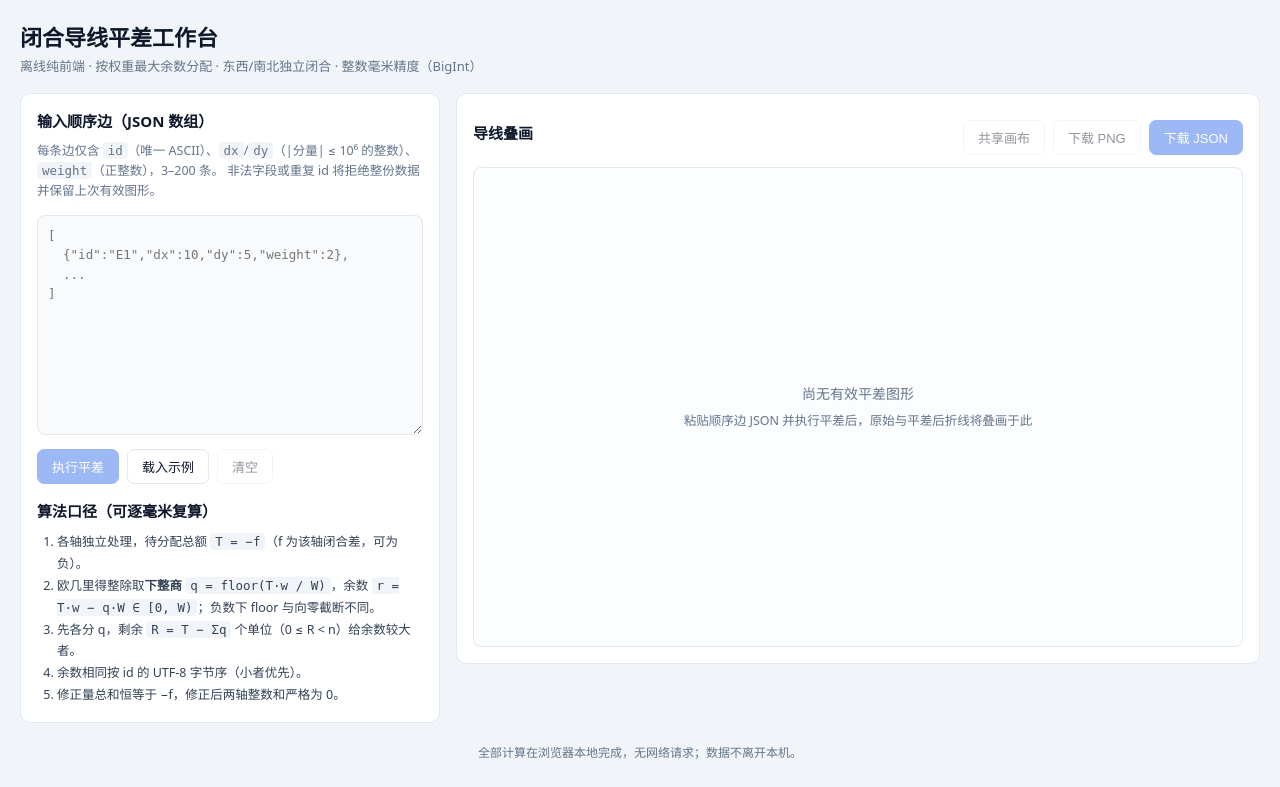
Test: App 集成 › 示例按钮可直接载入并平差
Step 1. Click the button "载入示例" → coordinates (168, 466), box [127,449,209,484]
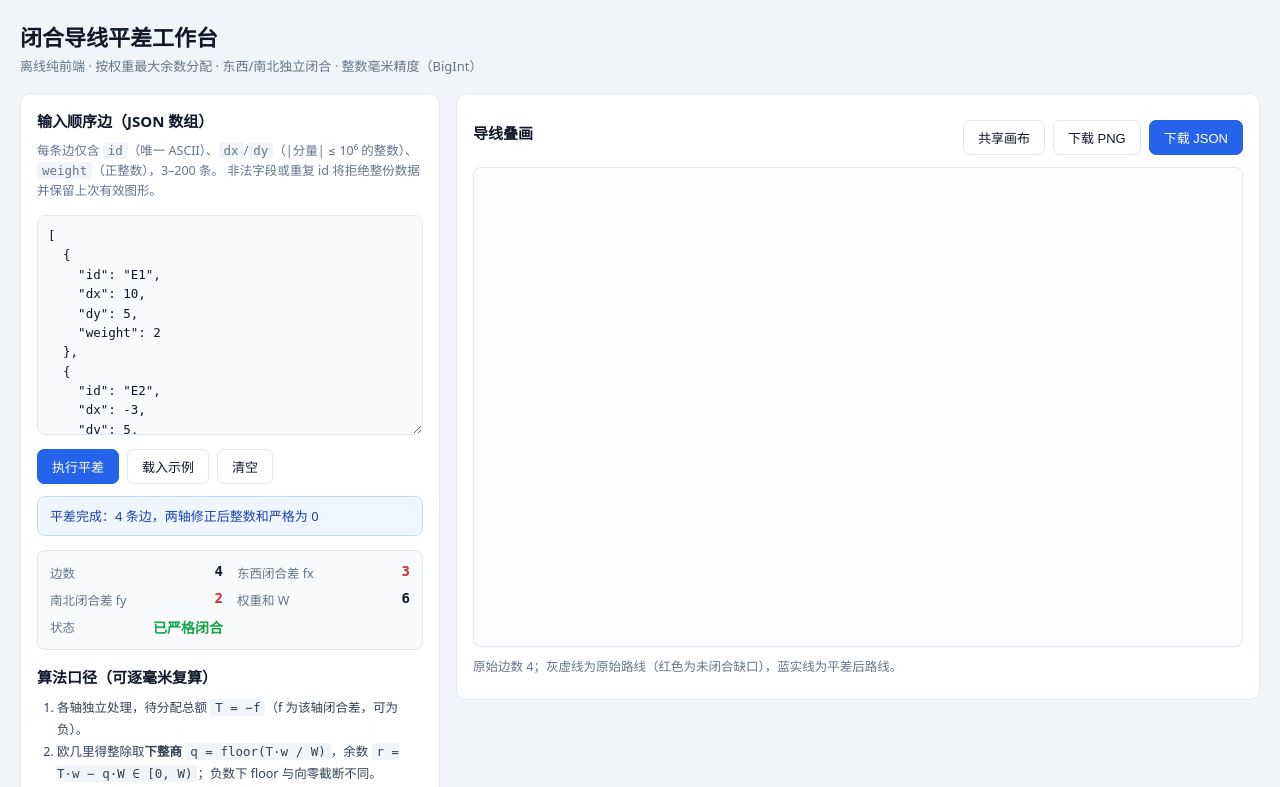
expect the text with test id "edge-count" reads "4": met, box [215,563,223,579]
